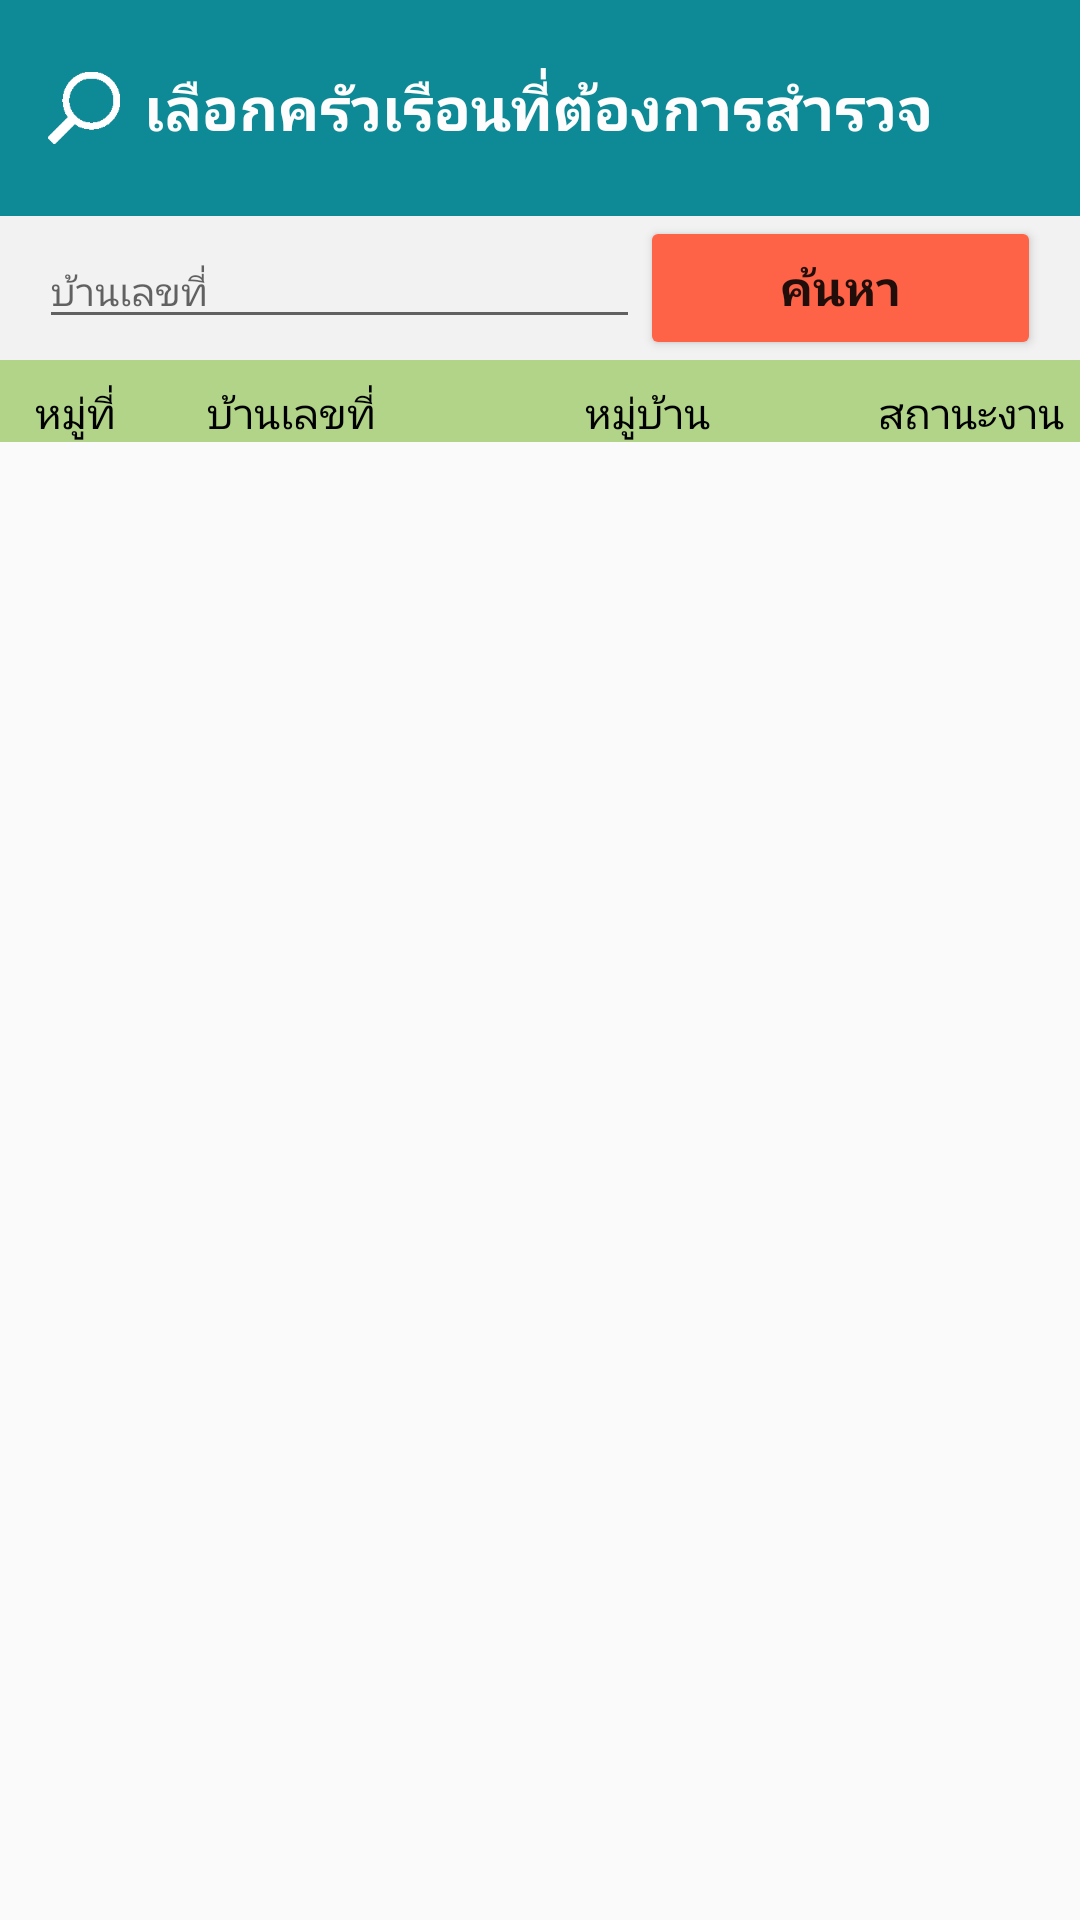

Where to tap for icons on this 1080×1920 app screen, as [x,y]:
search: [84,108]
